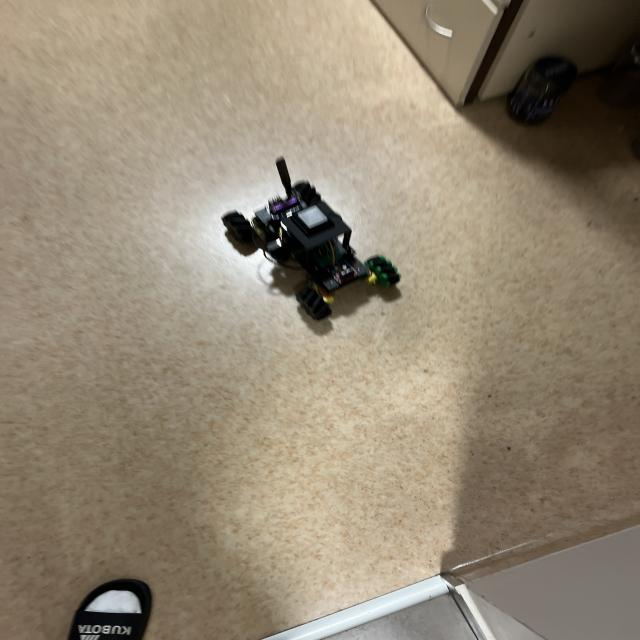robot: (222, 158, 400, 320)
